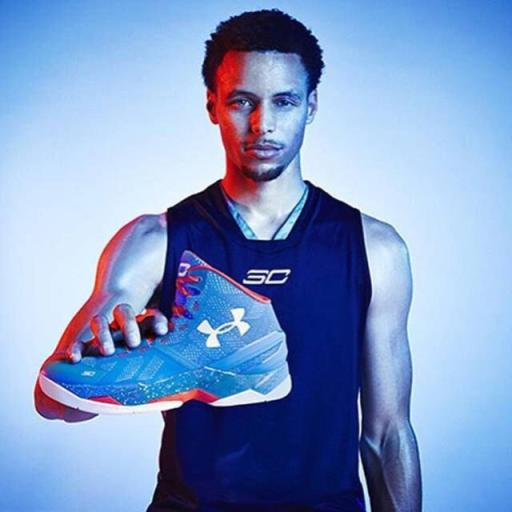Under Armour: (194, 305, 252, 352)
